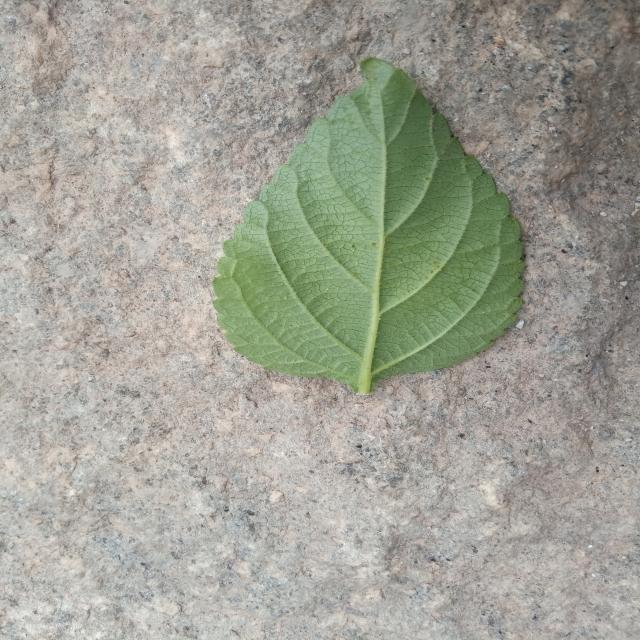Lantana: (213, 59, 523, 394)
